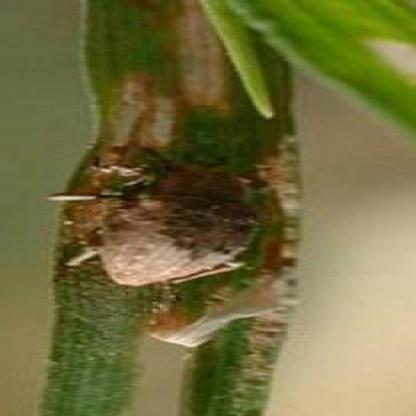rice-bug: (57, 156, 286, 288)
